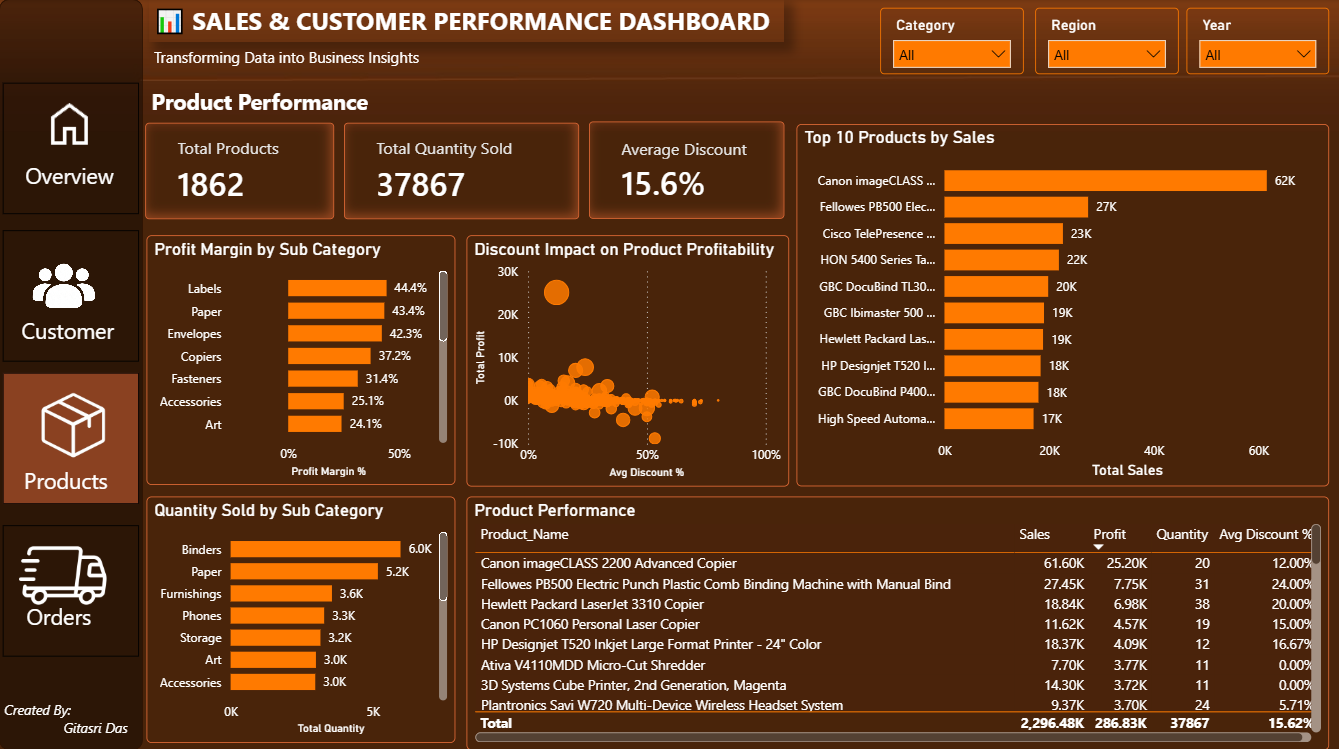

The page's visual inventory and layout, read from the dashboard file:
{"tool":"powerbi","page":{"name":"Product Performance Dashboard","canvas":[1325,746],"ordinal":2},"visuals":[{"type":"shape","box":[3.7,368.8,134.4,129.5],"z":0},{"type":"shape","box":[0,0,142,741.3],"z":1000},{"type":"group","id":"g1","title":"Group 2","box":[19.7,376.2,107.3,119.6],"z":2000},{"type":"cardVisual","fields":{"Data":["SalesData.Total Products"]},"box":[144.3,122.1,186,95],"z":3000},{"type":"cardVisual","fields":{"Data":["SalesData.Average Discount"]},"box":[582.2,120.9,192.4,96.2],"z":4000},{"type":"cardVisual","fields":{"Data":["SalesData.Total Quantity Sold"]},"box":[340.4,122.1,231.9,95],"z":5000},{"type":"slicer","fields":{"Values":["SalesData.Region"]},"box":[1023,8.2,141.7,65.9],"z":6000},{"type":"slicer","fields":{"Values":["SalesData.Category"]},"box":[870.1,8.2,141.7,65.9],"z":7000},{"type":"textbox","box":[147.9,0,626.5,42.3],"z":8000},{"type":"image","box":[41.9,92.5,55.5,61.7],"z":9000},{"type":"textbox","box":[21,154.2,104.8,41.9],"z":10000},{"type":"textbox","box":[147.9,42.3,274.7,41],"z":11000},{"type":"textbox","box":[145.5,81.4,249.2,54.3],"z":12000},{"type":"textbox","box":[19.7,454.7,107.3,40.7],"z":12000,"group":"g1"},{"type":"shape","box":[3.7,82.6,134,129.5],"z":13000},{"type":"image","box":[20,376.2,107.3,87.6],"z":13000,"group":"g1"},{"type":"textbox","box":[0,687.4,135.5,54.7],"z":14000},{"type":"shape","box":[3.7,228.2,134.4,129.5],"z":15000},{"type":"group","id":"g2","title":"Group 1","box":[17.3,239.3,104.8,108.5],"z":16000},{"type":"slicer","fields":{"Values":["DateTable.Year"]},"box":[1171.8,8.6,140.6,65.4],"z":17000},{"type":"barChart","title":"Top 10 Products by Sales","fields":{"Y":["Sum(SalesData.Sales)"],"Category":["SalesData.Product_Name"]},"box":[787,123.3,525.5,357.7],"z":18000},{"type":"barChart","title":"Quantity Sold by Sub Category","fields":{"Category":["SalesData.Sub_Category"],"Y":["Sum(SalesData.Quantity)"]},"box":[145.5,490.9,304.7,243],"z":19000},{"type":"tableEx","title":"Product Performance","fields":{"Values":["SalesData.Product_Name","Sum(SalesData.Sales)","Sum(SalesData.Profit)","Sum(SalesData.Quantity)","Avg(SalesData.Discount)"]},"box":[461.3,490.9,851.1,250.4],"z":20000},{"type":"scatterChart","title":"Discount Impact on Product Profitability","fields":{"X":["Avg(SalesData.Discount)"],"Y":["Sum(SalesData.Profit)"],"Size":["Sum(SalesData.Sales)"],"Category":["SalesData.Product_Name"]},"box":[461.3,233.1,318.2,247.9],"z":21000},{"type":"barChart","title":"Profit Margin  by Sub Category","fields":{"Category":["SalesData.Sub_Category"],"Y":["SalesData.Profit Margin %"]},"box":[145.5,233.1,304.7,246.7],"z":22000},{"type":"shape","box":[3.7,519.3,134.4,129.5],"z":23000},{"type":"group","id":"g3","title":"Group 1","box":[19.7,519.3,107.3,111],"z":24000},{"type":"image","box":[23.5,239.3,86.3,98.7],"z":29000,"group":"g2"},{"type":"image","box":[19.7,519.3,86.3,98.7],"z":29000,"group":"g3"},{"type":"textbox","box":[17.3,307.1,104.8,40.7],"z":31000,"group":"g2"},{"type":"textbox","box":[22.3,590.2,104.8,40.7],"z":31000,"group":"g3"}]}

Visuals, with their boxes in screenshot pixels (x1, y1, x2, y2), scaled from the page's 1325x746 canvas onto the 1339x749 screenshot:
shape: <bbox>4, 370, 140, 500</bbox>
shape: <bbox>0, 0, 144, 744</bbox>
"Group 2" group: <bbox>20, 378, 128, 498</bbox>
cardVisual - SalesData.Total Products: <bbox>146, 123, 334, 218</bbox>
cardVisual - SalesData.Average Discount: <bbox>588, 121, 783, 218</bbox>
cardVisual - SalesData.Total Quantity Sold: <bbox>344, 123, 578, 218</bbox>
slicer - SalesData.Region: <bbox>1034, 8, 1177, 74</bbox>
slicer - SalesData.Category: <bbox>879, 8, 1022, 74</bbox>
textbox: <bbox>149, 0, 783, 42</bbox>
image: <bbox>42, 93, 98, 155</bbox>
textbox: <bbox>21, 155, 127, 197</bbox>
textbox: <bbox>149, 42, 427, 84</bbox>
textbox: <bbox>147, 82, 399, 136</bbox>
textbox: <bbox>20, 457, 128, 497</bbox>
shape: <bbox>4, 83, 139, 213</bbox>
image: <bbox>20, 378, 129, 466</bbox>
textbox: <bbox>0, 690, 137, 745</bbox>
shape: <bbox>4, 229, 140, 359</bbox>
"Group 1" group: <bbox>17, 240, 123, 349</bbox>
slicer - DateTable.Year: <bbox>1184, 9, 1326, 74</bbox>
"Top 10 Products by Sales" barChart: <bbox>795, 124, 1326, 483</bbox>
"Quantity Sold by Sub Category" barChart: <bbox>147, 493, 455, 737</bbox>
"Product Performance" tableEx: <bbox>466, 493, 1326, 744</bbox>
"Discount Impact on Product Profitability" scatterChart: <bbox>466, 234, 788, 483</bbox>
"Profit Margin  by Sub Category" barChart: <bbox>147, 234, 455, 482</bbox>
shape: <bbox>4, 521, 140, 651</bbox>
"Group 1" group: <bbox>20, 521, 128, 633</bbox>
image: <bbox>24, 240, 111, 339</bbox>
image: <bbox>20, 521, 107, 620</bbox>
textbox: <bbox>17, 308, 123, 349</bbox>
textbox: <bbox>23, 593, 128, 633</bbox>
